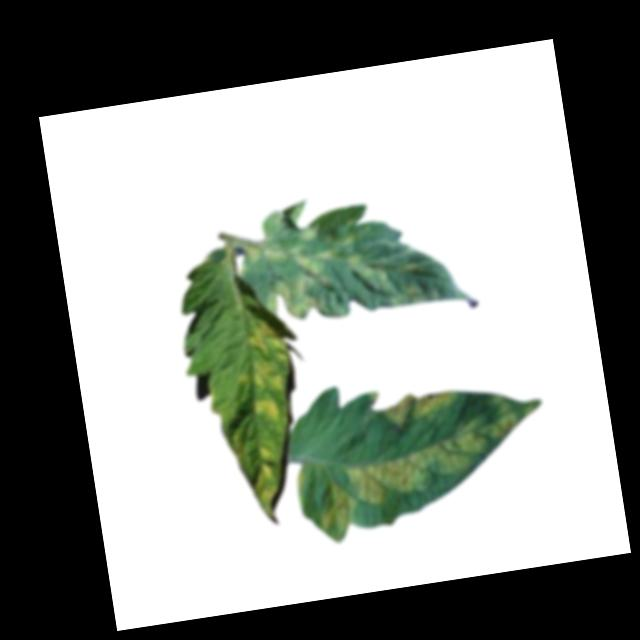Leaf_Mold: (304, 391, 532, 542), (241, 234, 331, 324), (383, 387, 461, 432), (247, 442, 285, 527), (235, 356, 288, 397), (244, 317, 291, 361), (346, 246, 385, 287), (250, 390, 286, 429), (318, 247, 340, 265)
